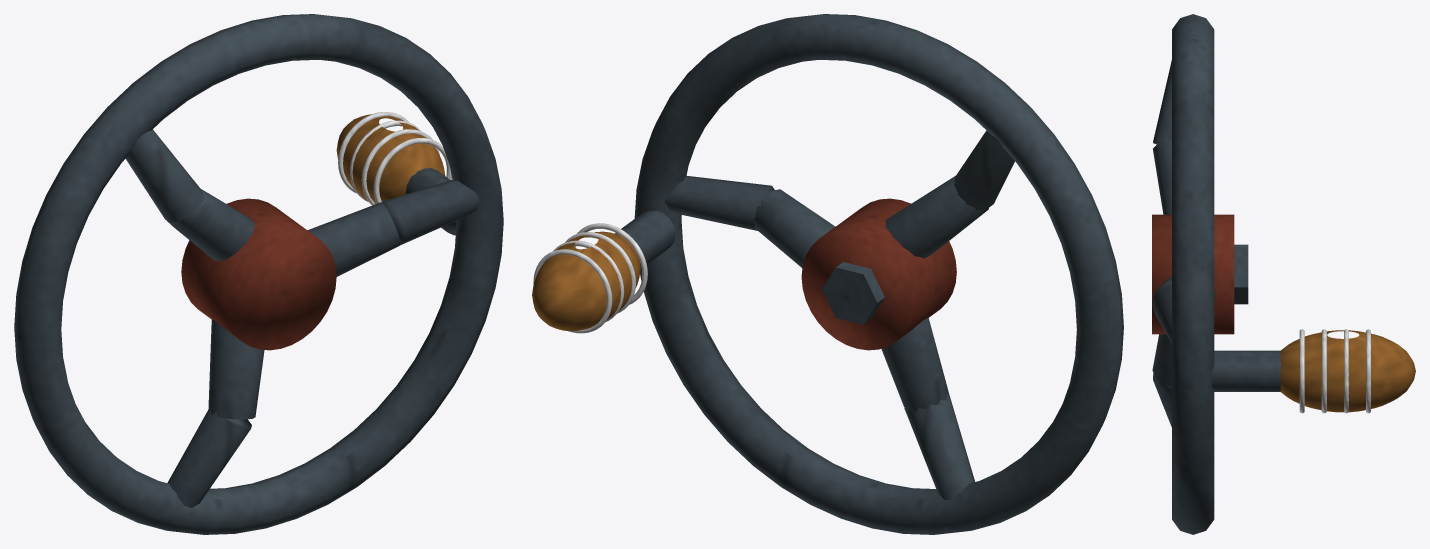
Rendered from bulkhead_crank_wheel.glb.
The picture shows the model from 3 angles, left to right: view 1: azimuth 30°, elevation 25°; view 2: azimuth 150°, elevation 25°; view 3: azimuth 270°, elevation 25°; orthographic projection. The views are drawn at different scales.
Visible parts, largest first — view 1: bulkhead_crank_wheel_Mesh; view 2: bulkhead_crank_wheel_Mesh; view 3: bulkhead_crank_wheel_Mesh.
Part boxes in pixels (x1=…): bulkhead_crank_wheel_Mesh: x1=14, y1=14, x2=503, y2=534; bulkhead_crank_wheel_Mesh: x1=532, y1=14, x2=1123, y2=534; bulkhead_crank_wheel_Mesh: x1=1152, y1=14, x2=1415, y2=534.
Size of the model in its own units: 0.3367 by 0.33 by 0.167.
Materials: 4 (4 with a texture image).
